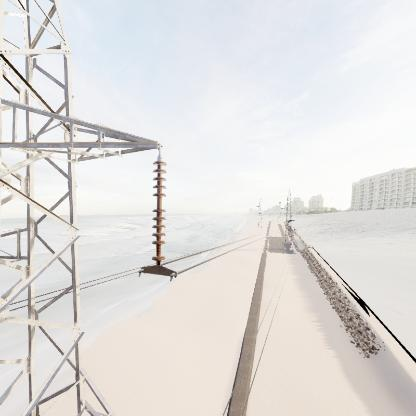insulator: (147, 157, 172, 269)
